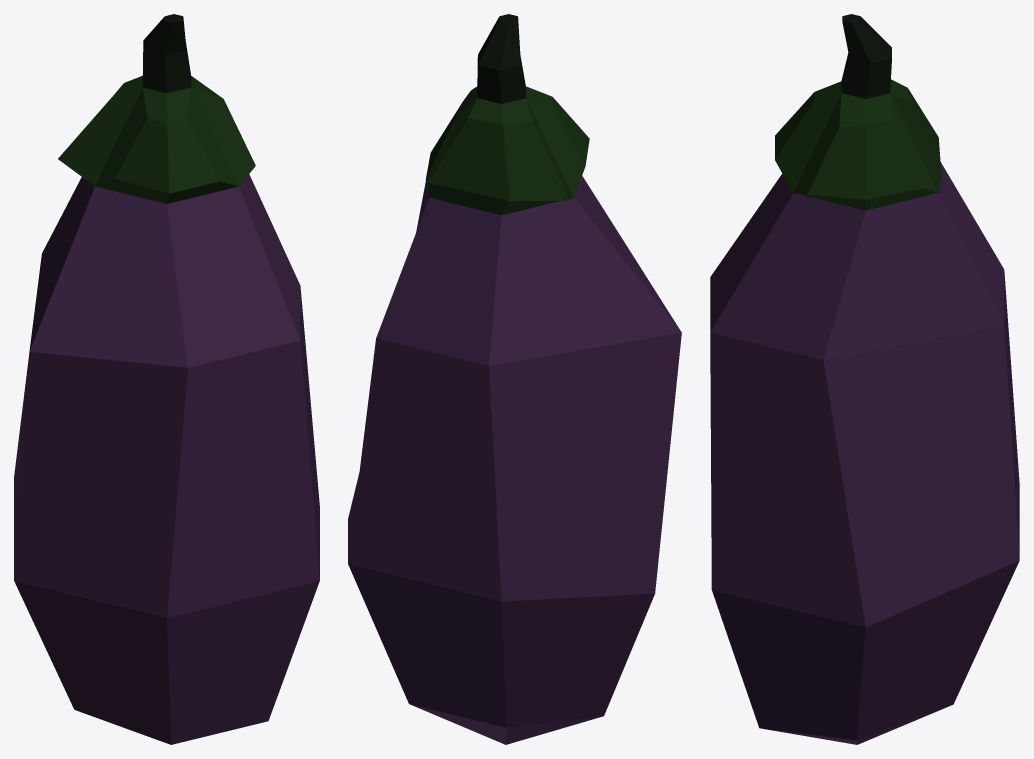
3 renders of one model, left to right at view 1: azimuth 30°, elevation 25°; view 2: azimuth 150°, elevation 25°; view 3: azimuth 270°, elevation 25°, orthographic.
Visible parts, largest first — view 1: 茄子_pCylinder3; view 2: 茄子_pCylinder3; view 3: 茄子_pCylinder3.
Boxes of the visible parts, bbox=[...] form: 茄子_pCylinder3: bbox=[14, 14, 319, 744]; 茄子_pCylinder3: bbox=[348, 14, 681, 744]; 茄子_pCylinder3: bbox=[710, 14, 1019, 744].
Size of the model in its own units: 2.86 by 2.44 by 6.32.
